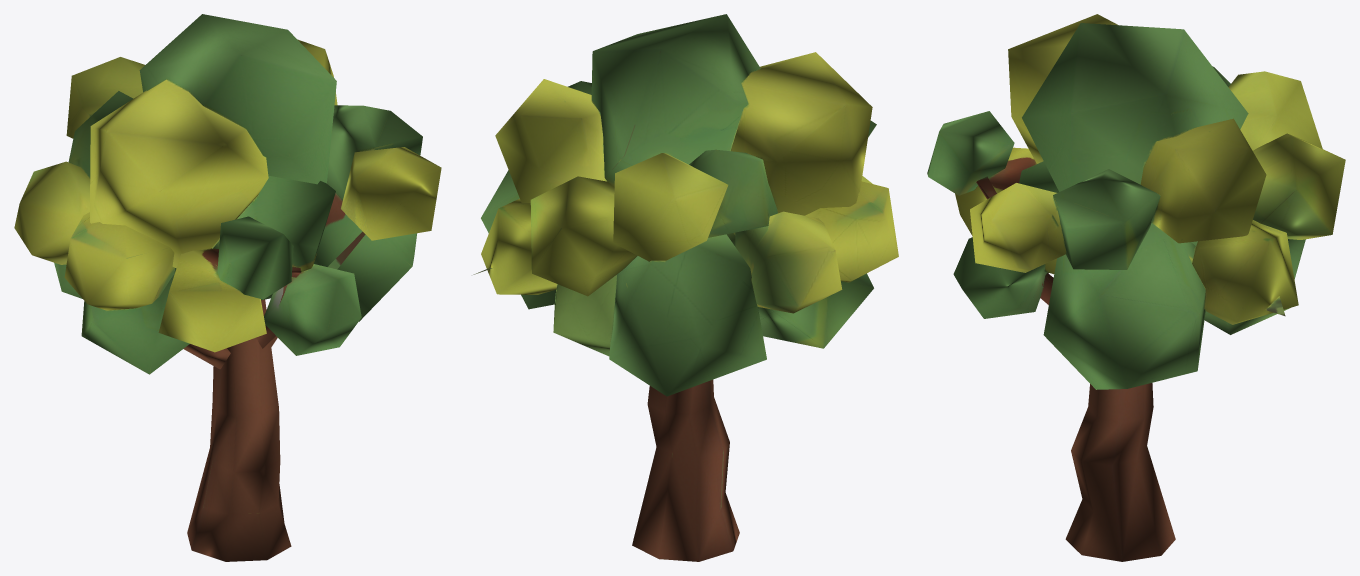
The model's file is Meshy_AI_Low_Poly_Tree_0819080408_texture.fbx.
The picture shows the model from 3 angles, left to right: view 1: azimuth 30°, elevation 25°; view 2: azimuth 150°, elevation 25°; view 3: azimuth 270°, elevation 25°; orthographic projection. The views are drawn at different scales.
Parts seen in each view (by area): view 1: mesh_node; view 2: mesh_node; view 3: mesh_node.
Part boxes in pixels (<box>): mesh_node: <box>14,14,441,561</box>; mesh_node: <box>473,14,898,561</box>; mesh_node: <box>927,14,1345,561</box>.
Bounding box in the file's own units: 224 × 300 × 224.
Materials: 1 (1 with a texture image).
